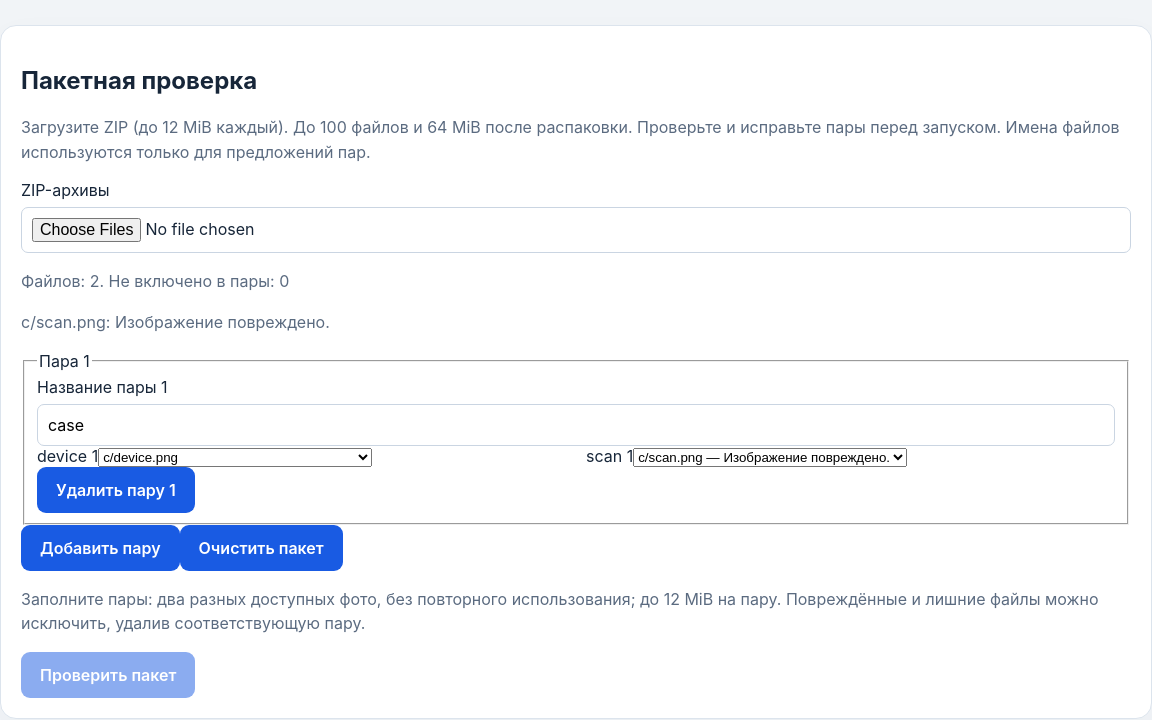
blocks damaged files and permits exclusion before analysis
Earlier steps of the test are not shown.
Expected: the text "c/scan.png: Изображение повреждено." is shown, [21,312,330,332]
Expected: the button "Проверить пакет" is disabled, [21,652,195,698]
Click the button "Удалить пару 1" at (116, 490), box [37,467,195,513]
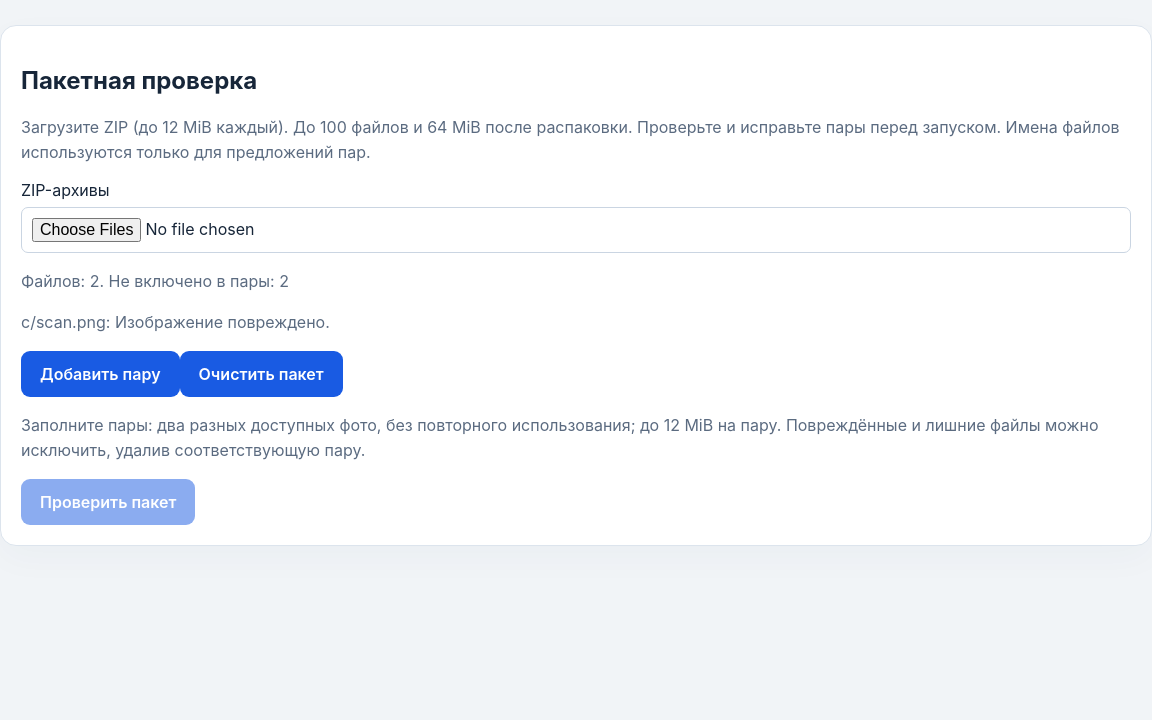
Now the label labelled "scan 1" is gone
Click the button "Добавить пару" at (100, 374), box [21,351,180,397]
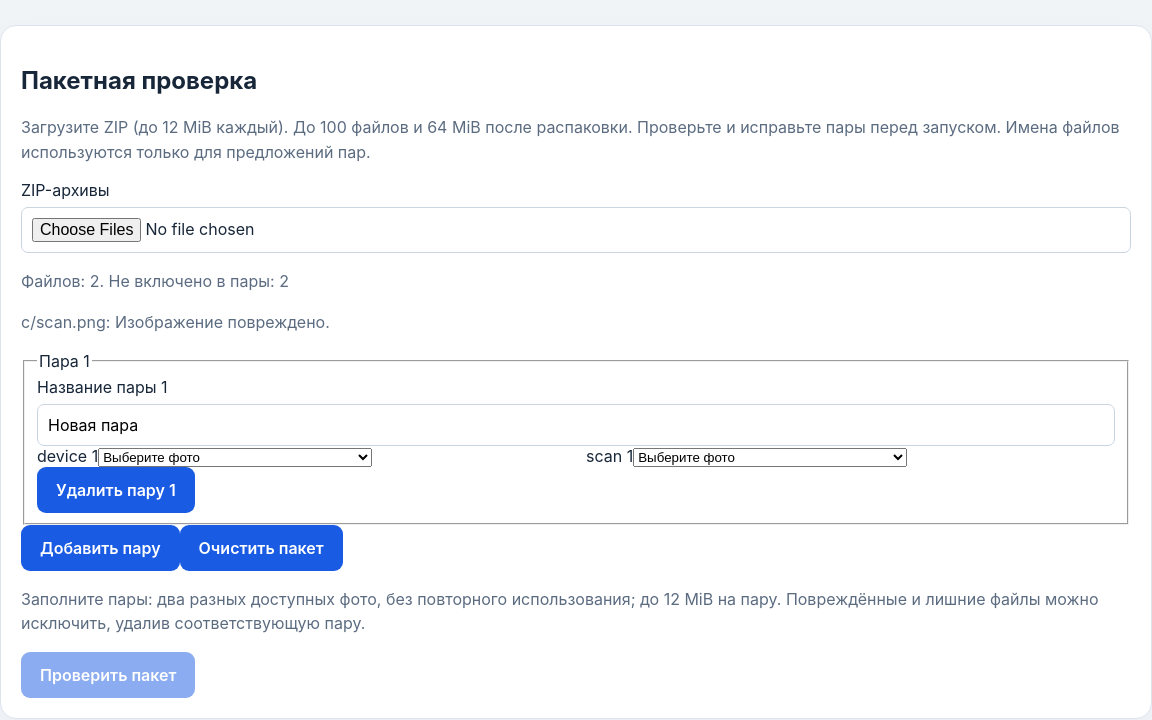
Now the dropdown labelled "device 1" shows "Выберите фото", box [98,448,372,467]
